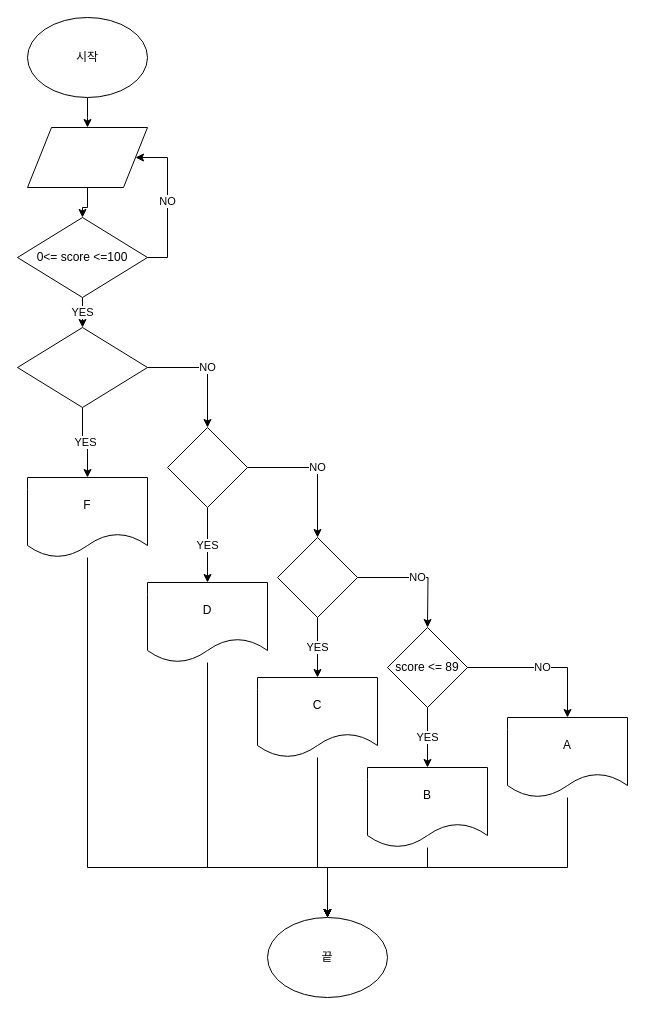
Image size: 645x1015. Some labels were removed from this diagram. Each missing label, with the centre of its shape:
int score: (x=87, y=157)
score <= 59: (x=82, y=367)
score <= 69: (x=207, y=467)
score <= 79: (x=317, y=577)
